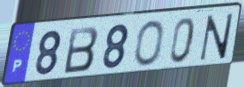0: (169, 16, 197, 65)
8: (101, 22, 130, 71), (34, 28, 62, 77)
B: (62, 24, 100, 75)
N: (198, 11, 236, 63)
O: (133, 19, 165, 68)
